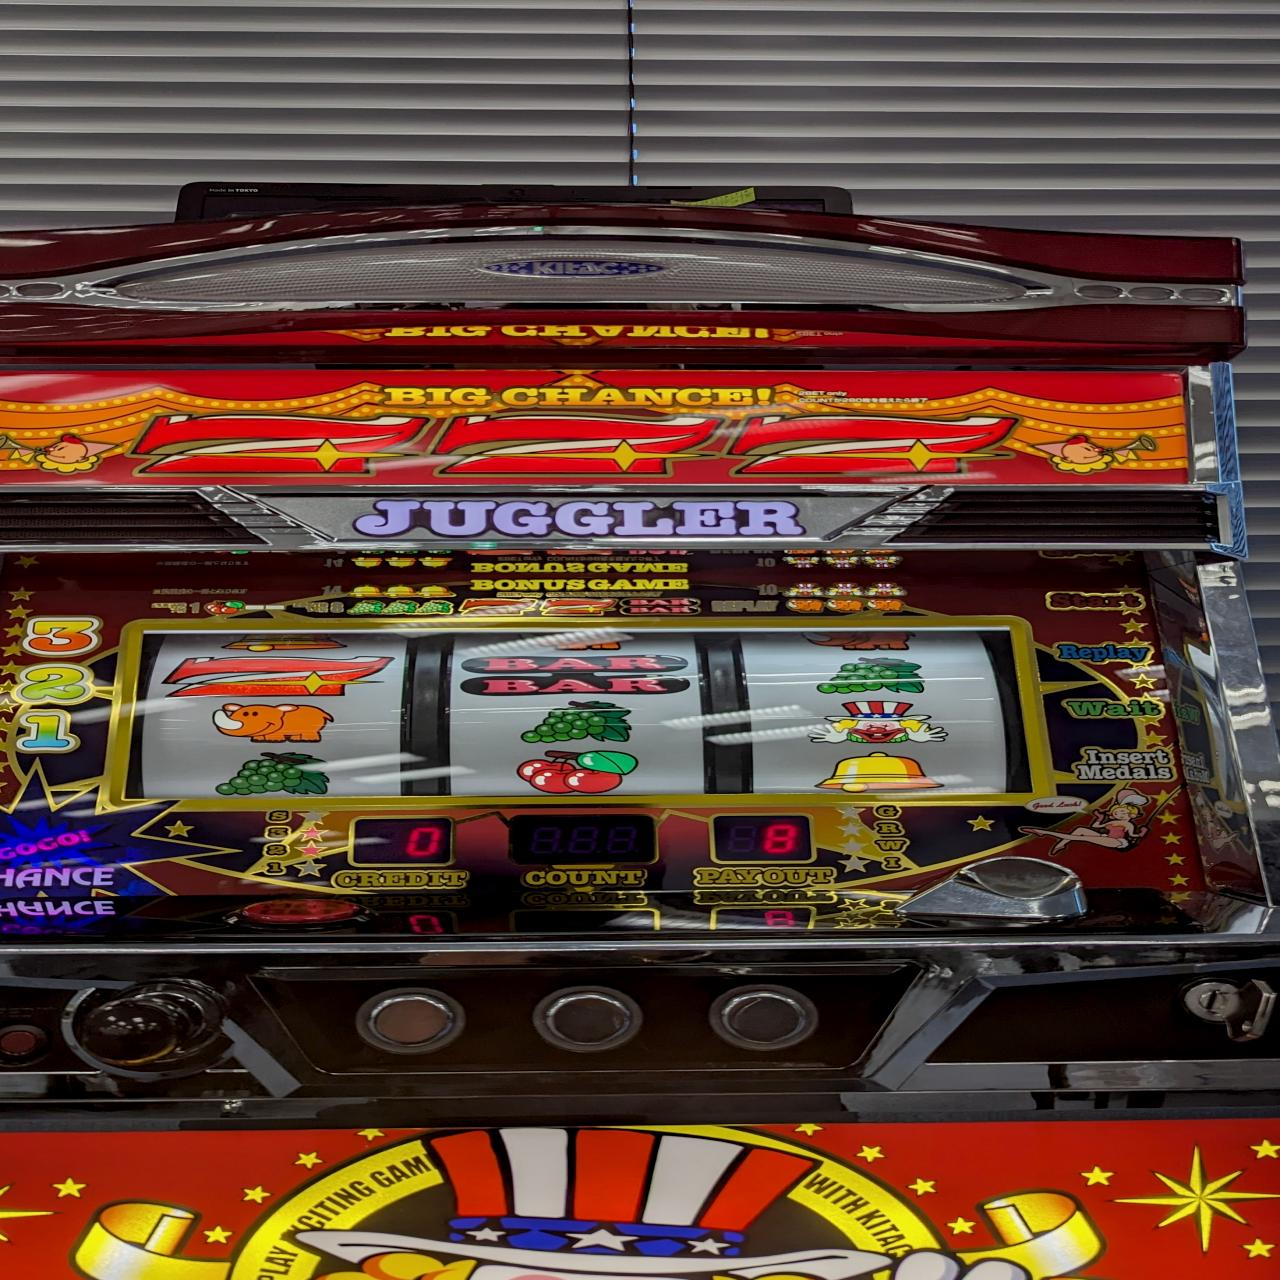7: (158, 655, 400, 700)
8: (211, 702, 336, 745)
Display: (129, 620, 1047, 801)
bar: (462, 654, 693, 696)
bell: (815, 751, 947, 794)
cherry: (519, 749, 642, 794)
clown: (806, 700, 949, 747)
grape: (516, 701, 639, 745), (213, 751, 332, 796), (813, 658, 926, 694)
